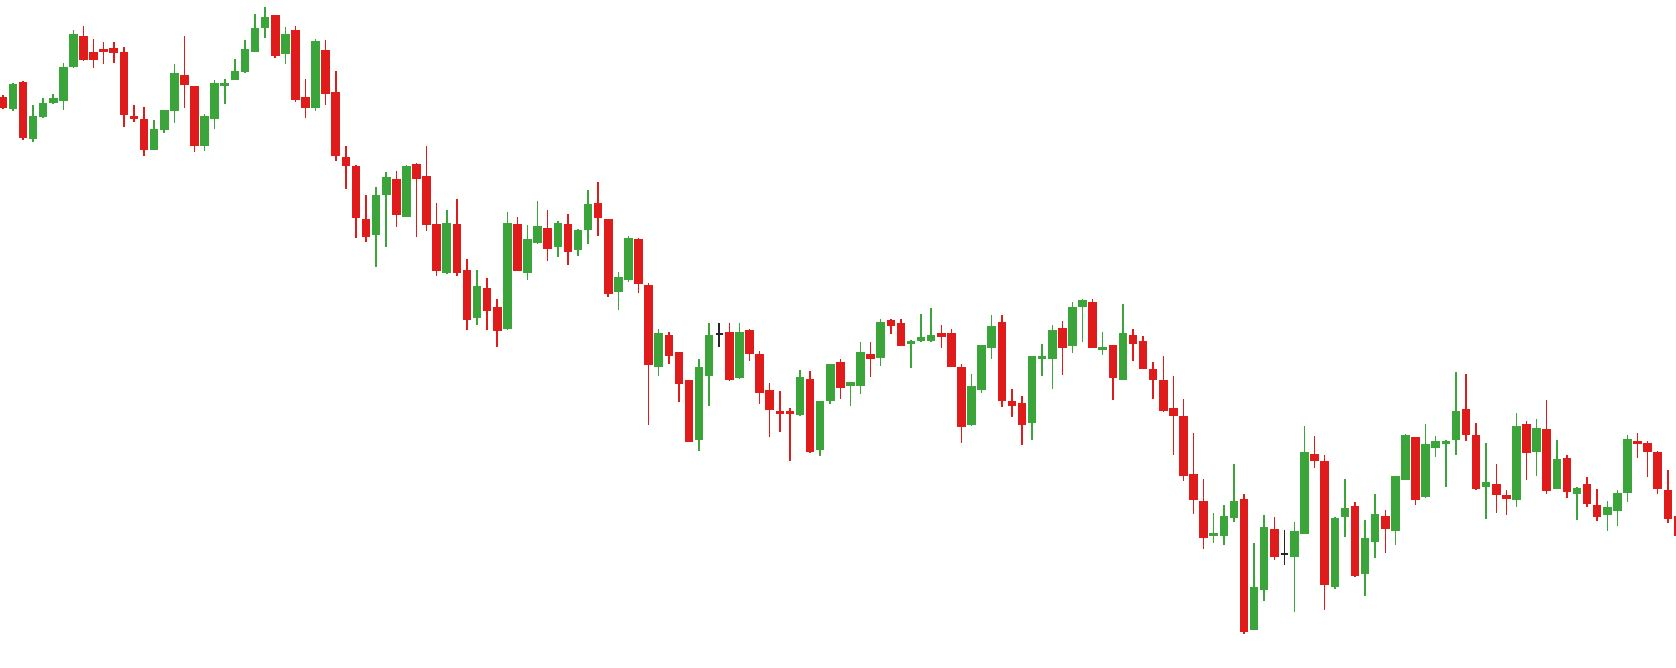buy: (686, 351, 827, 462), (19, 55, 159, 158)
sell: (533, 175, 601, 244)
